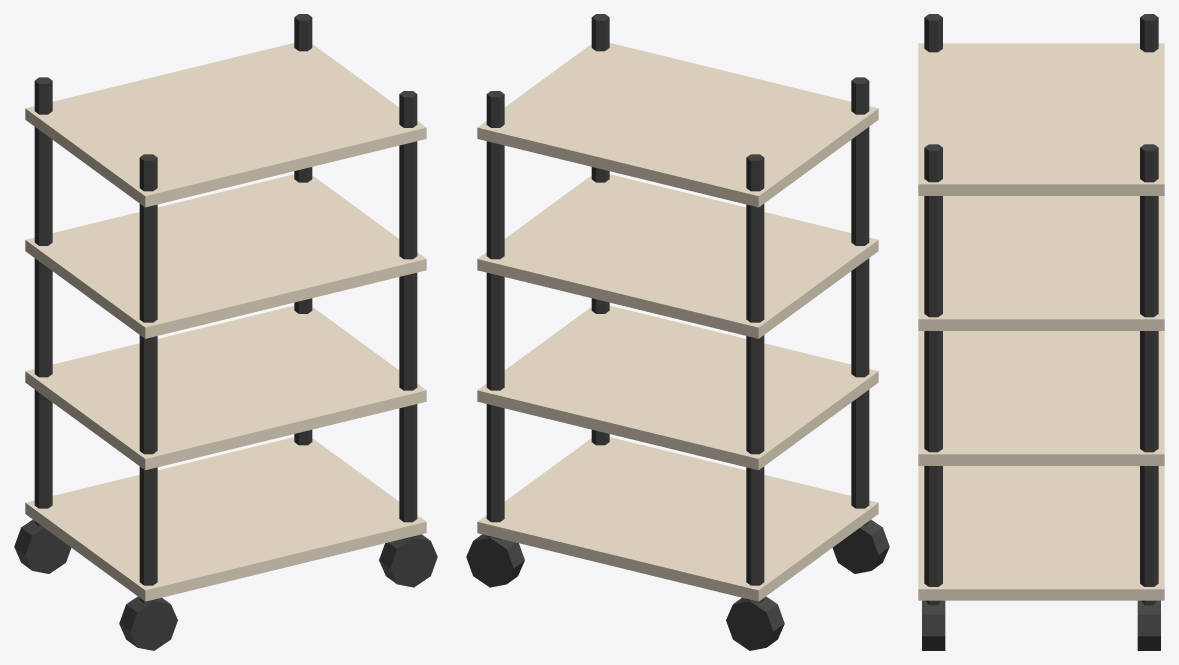
3 views of the same model, side by side, from view 1: azimuth 30°, elevation 25°; view 2: azimuth 150°, elevation 25°; view 3: azimuth 270°, elevation 25° (orthographic). The views are drawn at different scales.
Parts seen in each view (by area): view 1: Rack shelf.003, Rack shelf.002, Rack shelf, Rack shelf.001, Post, Post.002, Post.001, Wheel, Wheel.002, Wheel.001, Post.003; view 2: Rack shelf.003, Rack shelf.002, Rack shelf, Rack shelf.001, Post.001, Post.003, Post, Wheel.001, Wheel.003, Wheel, Post.002; view 3: Rack shelf.003, Rack shelf, Rack shelf.001, Rack shelf.002, Post.002, Post.003, Wheel.002, Wheel.003, Post, Post.001.
Part boxes in pixels (x1,y1,x2,y2): Rack shelf.003: (25, 43, 426, 207); Rack shelf.002: (25, 174, 426, 338); Rack shelf: (25, 437, 426, 601); Rack shelf.001: (25, 305, 426, 470); Post: (139, 154, 157, 602); Post.002: (399, 91, 417, 539); Post.001: (34, 77, 52, 526); Wheel: (119, 596, 177, 650); Wheel.002: (379, 534, 437, 587); Wheel.001: (14, 519, 71, 573); Post.003: (294, 14, 312, 445); Rack shelf.003: (477, 43, 878, 207); Rack shelf.002: (477, 174, 878, 338); Rack shelf: (477, 437, 878, 601); Rack shelf.001: (477, 305, 878, 470); Post.001: (746, 154, 764, 602); Post.003: (486, 91, 504, 539); Post: (851, 77, 869, 526); Wheel.001: (726, 596, 784, 650); Wheel.003: (466, 534, 524, 587); Wheel: (832, 519, 889, 573); Post.002: (591, 14, 609, 445); Rack shelf.003: (918, 43, 1164, 195); Rack shelf: (918, 466, 1164, 600); Rack shelf.001: (918, 331, 1164, 465); Rack shelf.002: (918, 196, 1164, 330); Post.002: (924, 144, 942, 605); Post.003: (1140, 144, 1158, 605); Wheel.002: (922, 600, 945, 650); Wheel.003: (1137, 600, 1160, 650); Post: (924, 14, 942, 52); Post.001: (1140, 14, 1158, 52).
Size of the model in its own units: 0.71 by 1.08 by 0.48.
Materials: 1 (1 with a texture image).
